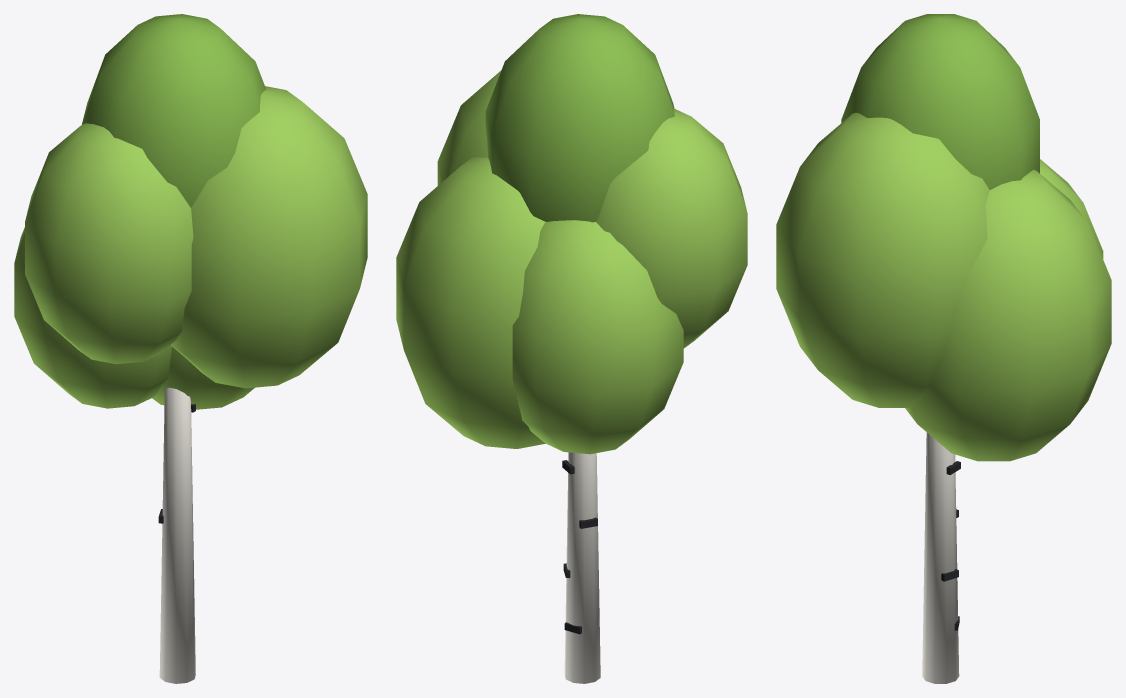
Rendered from tree_birch.gltf.
3 renders of one model, left to right at view 1: azimuth 30°, elevation 25°; view 2: azimuth 150°, elevation 25°; view 3: azimuth 270°, elevation 25°, orthographic.
Visible parts, largest first — view 1: tree_birch_mesh; view 2: tree_birch_mesh; view 3: tree_birch_mesh.
Boxes of the visible parts, box(x1,y1,x2,y2) form: tree_birch_mesh: box(14, 14, 367, 683); tree_birch_mesh: box(396, 14, 747, 683); tree_birch_mesh: box(776, 14, 1111, 683).
Size of what is drawn, in the model's own units: 3.66 by 7.84 by 3.62.
